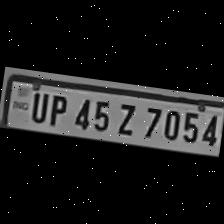0: (158, 104, 182, 140)
4: (68, 92, 94, 130), (198, 110, 222, 146)
5: (87, 94, 114, 132), (178, 106, 202, 144)
7: (136, 102, 162, 140)
P: (43, 90, 70, 128)
U: (26, 88, 50, 123)
Z: (112, 98, 141, 136)
